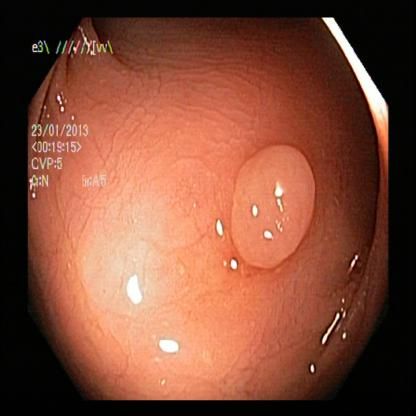Labels: (29, 42, 114, 190)
Polyps: (231, 154, 320, 274)
